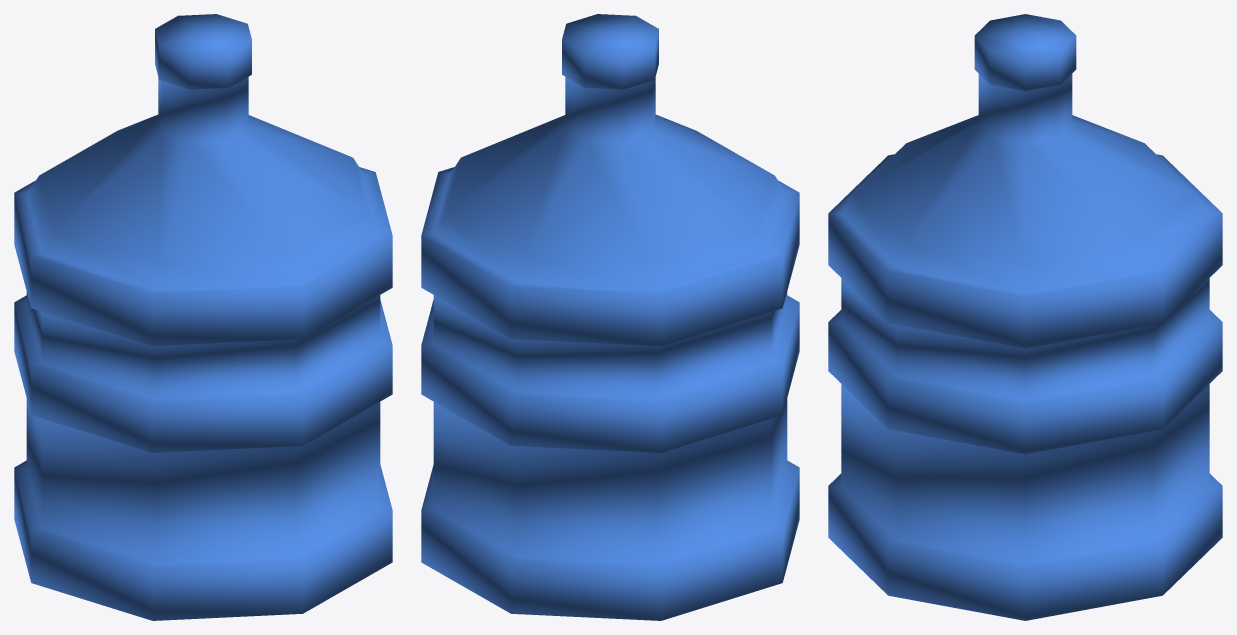
The model's file is galon.fbx.
3 renders of one model, left to right at view 1: azimuth 30°, elevation 25°; view 2: azimuth 150°, elevation 25°; view 3: azimuth 270°, elevation 25°, orthographic.
Visible parts, largest first — view 1: galon; view 2: galon; view 3: galon.
Part boxes in pixels (bbox=[...]): galon: bbox=[14, 14, 392, 620]; galon: bbox=[421, 14, 799, 620]; galon: bbox=[828, 14, 1222, 620].
Size of the model in its own units: 102 by 143 by 102.
